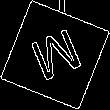M_SE: (24, 23, 86, 87)
